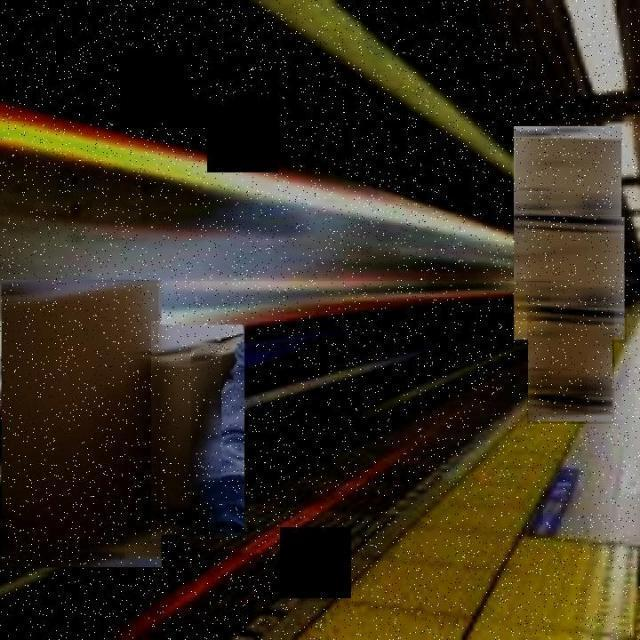box: (0, 276, 164, 576), (151, 322, 247, 539), (513, 216, 627, 342), (512, 124, 625, 238), (527, 310, 614, 424)
